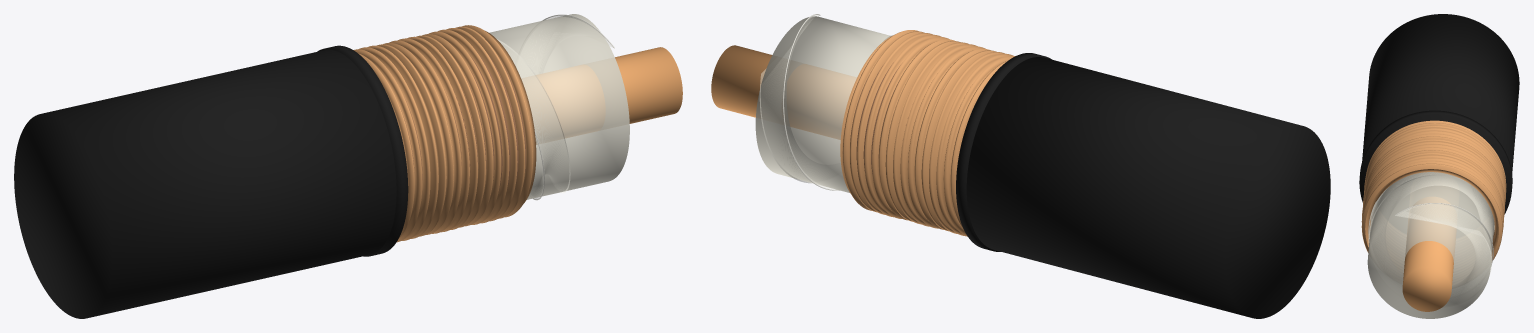
Rendered from rf-ldf5.glb.
3 renders of one model, left to right at view 1: azimuth 30°, elevation 25°; view 2: azimuth 150°, elevation 25°; view 3: azimuth 270°, elevation 25°, orthographic. The views are drawn at different scales.
Visible parts, largest first — view 1: black PE jacket body, corrugated copper shield, foam PE dielectric, solid center conductor continuous, jacket cut lip, surface PTFE tape wrap, dark groove shadow pass; view 2: black PE jacket body, corrugated copper shield, foam PE dielectric, solid center conductor continuous, jacket cut lip, surface PTFE tape wrap, dark groove shadow pass; view 3: black PE jacket body, foam PE dielectric, corrugated copper shield, surface PTFE tape wrap, solid center conductor continuous, jacket cut lip, subtle PTFE tape lap line.
Part boxes in pixels (x1,y1,x2,y2): black PE jacket body: [14, 49, 396, 318]; corrugated copper shield: [353, 25, 536, 242]; foam PE dielectric: [489, 14, 629, 199]; solid center conductor continuous: [522, 47, 682, 144]; jacket cut lip: [317, 45, 408, 256]; surface PTFE tape wrap: [497, 16, 613, 198]; dark groove shadow pass: [401, 51, 525, 189]; black PE jacket body: [966, 57, 1330, 318]; corrugated copper shield: [840, 30, 1015, 236]; foam PE dielectric: [755, 16, 890, 192]; solid center conductor continuous: [711, 45, 856, 139]; jacket cut lip: [956, 53, 1051, 251]; surface PTFE tape wrap: [760, 15, 892, 189]; dark groove shadow pass: [850, 62, 908, 173]; black PE jacket body: [1362, 14, 1519, 173]; foam PE dielectric: [1367, 172, 1494, 318]; corrugated copper shield: [1361, 120, 1506, 262]; surface PTFE tape wrap: [1368, 173, 1494, 298]; solid center conductor continuous: [1402, 197, 1456, 311]; jacket cut lip: [1359, 110, 1512, 213]; subtle PTFE tape lap line: [1368, 200, 1493, 266].
Size of the model in its own units: 6.69 by 2.07 by 2.17.
